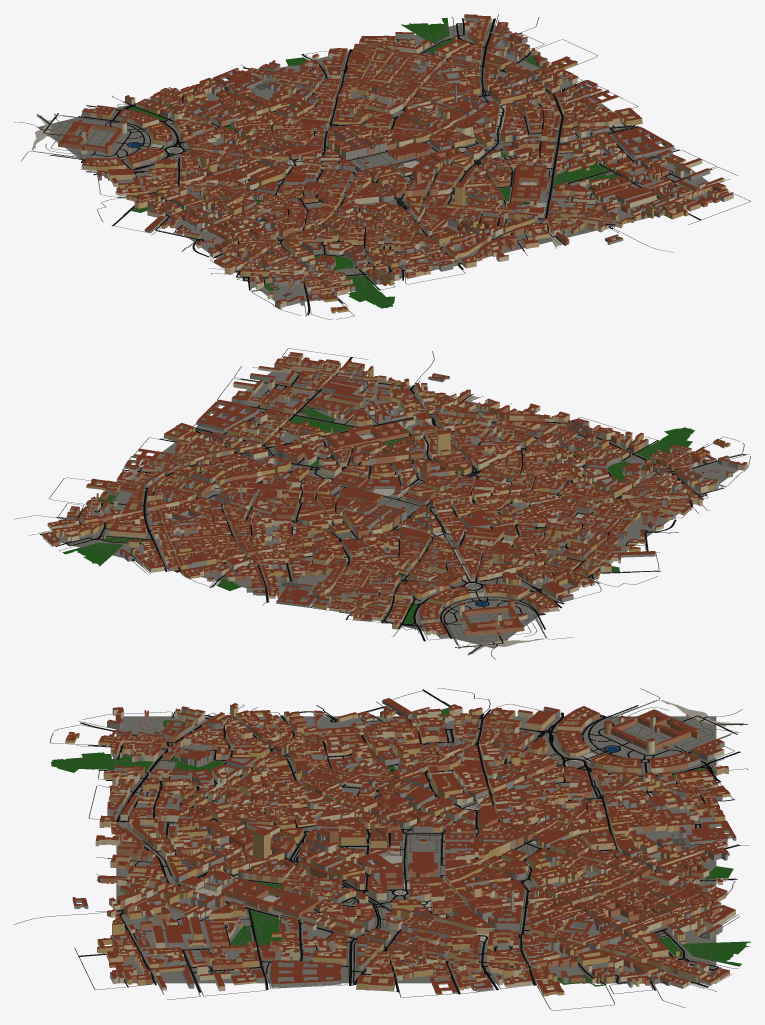
The model's file is milan.glb.
3 views of the same model, one above another, from view 1: azimuth 30°, elevation 25°; view 2: azimuth 150°, elevation 25°; view 3: azimuth 270°, elevation 25° (orthographic). The views are drawn at different scales.
Visible parts, largest first — view 1: buildings_3, buildings_2, buildings_0, buildings_4, buildings_1, ground, paths, roads, park, plaza; view 2: buildings_3, buildings_2, buildings_0, buildings_4, buildings_1, ground, paths, roads, park, plaza; view 3: buildings_3, buildings_2, buildings_0, buildings_4, buildings_1, ground, paths, roads, park, plaza.
Part boxes in pixels (x1,y1,x2,y2): buildings_3: (60,16,710,305); buildings_2: (58,14,725,298); buildings_0: (47,28,728,313); buildings_4: (50,15,720,294); buildings_1: (81,17,733,309); ground: (37,21,717,306); paths: (14,14,750,319); roads: (37,18,733,315); park: (129,17,617,308); plaza: (31,64,623,276); buildings_3: (51,369,735,638); buildings_2: (47,356,728,635); buildings_0: (67,356,730,640); buildings_4: (42,357,702,641); buildings_1: (45,352,747,635); ground: (44,360,738,648); paths: (14,348,750,659); roads: (39,357,746,655); park: (62,408,712,623); plaza: (214,395,584,654); buildings_3: (72,698,736,991); buildings_2: (97,709,729,985); buildings_0: (65,706,725,996); buildings_4: (99,703,730,994); buildings_1: (95,706,735,991); ground: (116,716,716,983); paths: (14,688,748,1010); roads: (78,689,748,994); park: (51,707,750,986); plaza: (101,700,744,975).
Bounding box in the file's own units: 2268 × 84 × 2188.
